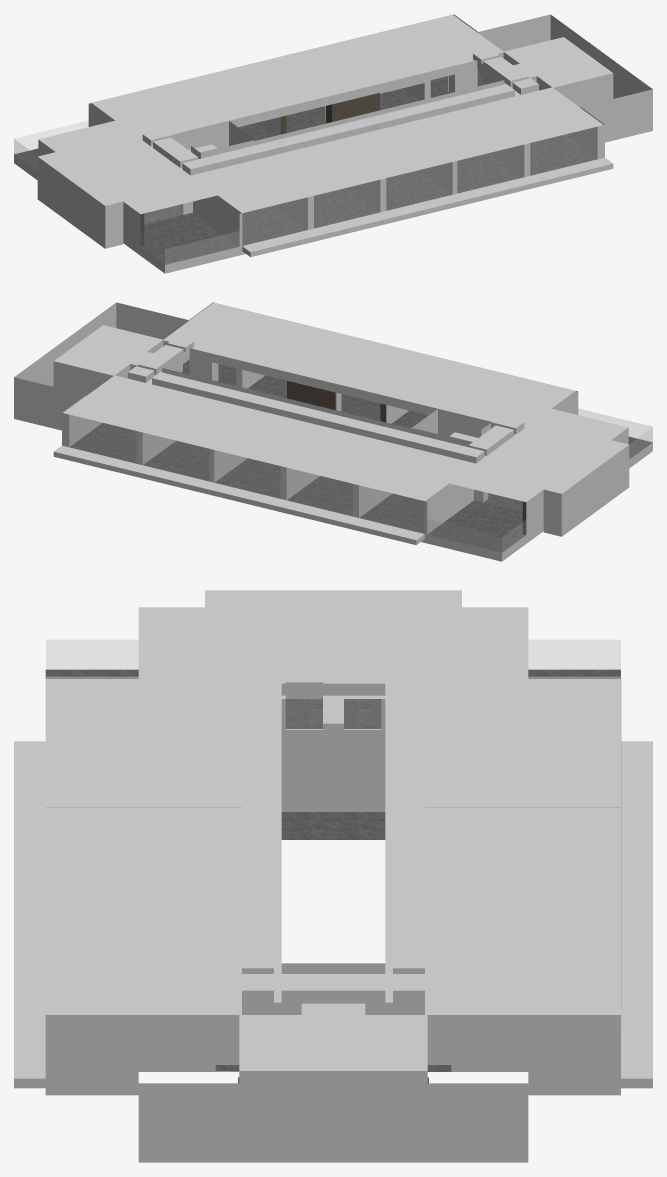
Rendered from EISCThirdFloor.glb.
3 renders of one model, top to bottom at view 1: azimuth 30°, elevation 25°; view 2: azimuth 150°, elevation 25°; view 3: azimuth 270°, elevation 25°, orthographic. The views are drawn at different scales.
Visible parts, largest first — view 1: StructureThirdFloor, TopThirdFloor, ThirdFloor; view 2: StructureThirdFloor, TopThirdFloor, ThirdFloor; view 3: TopThirdFloor, StructureThirdFloor, ThirdFloor.
Boxes of the visible parts, <box> form: StructureThirdFloor: <box>14,14,652,273</box>; TopThirdFloor: <box>38,14,612,214</box>; ThirdFloor: <box>14,72,597,264</box>; StructureThirdFloor: <box>14,302,652,561</box>; TopThirdFloor: <box>54,302,628,502</box>; ThirdFloor: <box>69,360,652,552</box>; TopThirdFloor: <box>45,590,620,1070</box>; StructureThirdFloor: <box>14,640,652,1162</box>; ThirdFloor: <box>45,669,620,1083</box>.
Size of the model in its own units: 44 by 4.1 by 24.1.
Materials: 5 (2 with a texture image).
